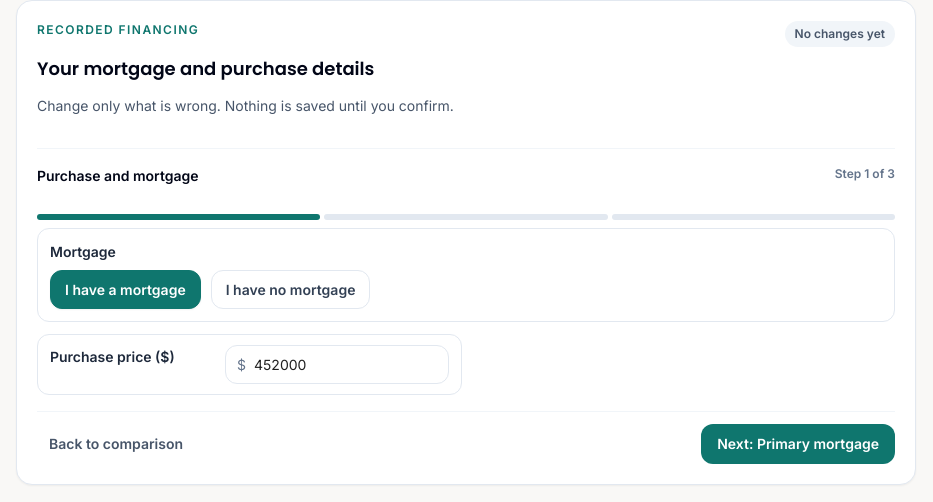
Test: Sell/Hold/Rent financing uses a progressive editor, hides inapplicable loan fields, and offers a route back
Expected: the text "Step 1 of 3" is shown, [835, 165, 895, 183]
Expected: the text "Purchase and mortgage" is shown, [37, 165, 199, 186]
Replace the text in the number field named "Purchase price ($)" with "460000" at (337, 364), box [225, 345, 449, 384]
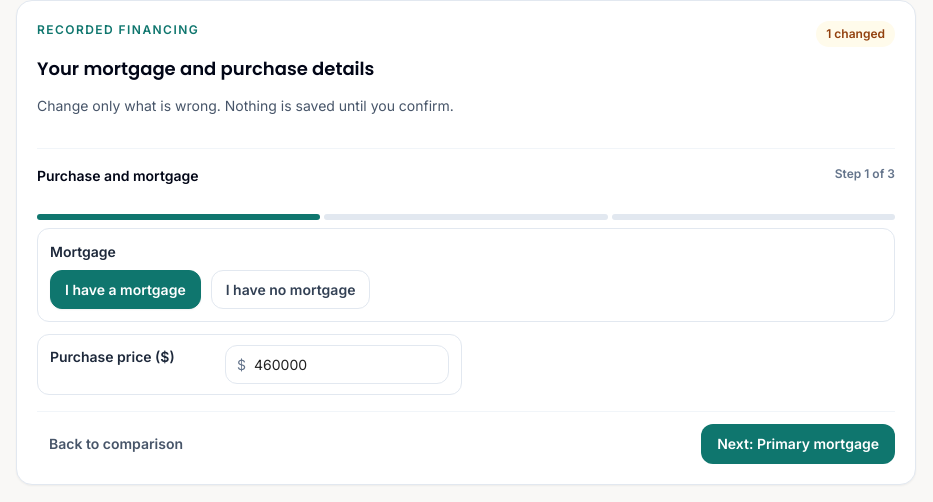
Expected: the text "1 changed" is shown, [816, 21, 895, 47]
Click the button "Next: Primary mortgage" at (798, 444), box [701, 424, 895, 464]
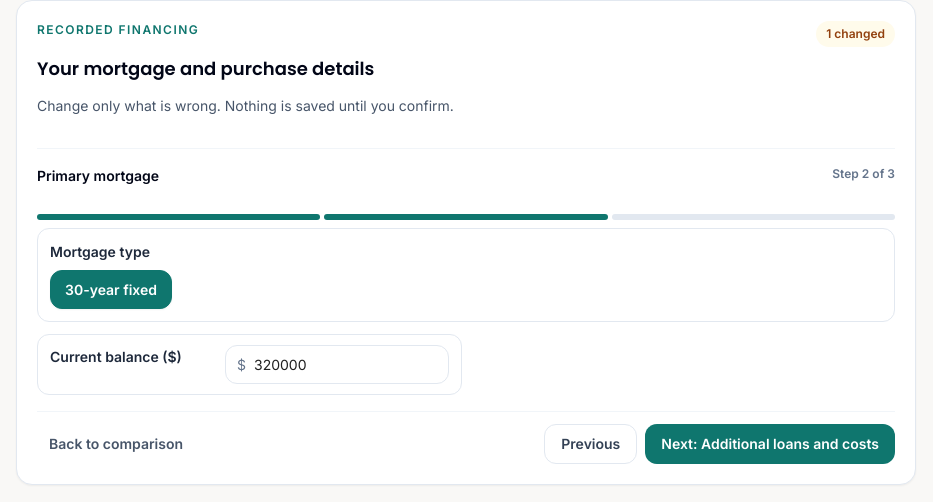
Expected: the element named "Mortgage type" is shown, [49, 270, 172, 309]
Expected: the element labelled "Current balance ($)" is shown, [50, 348, 182, 365]
